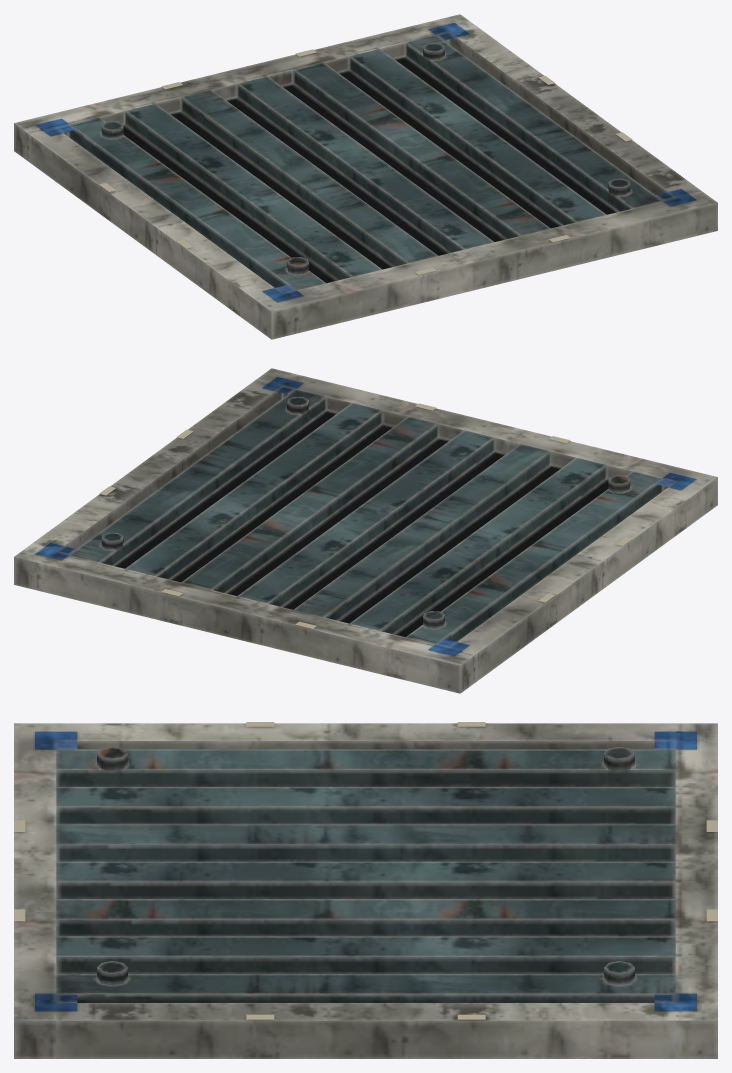
File: hull_platform_space.glb
3 views of the same model, one above another, from view 1: azimuth 30°, elevation 25°; view 2: azimuth 150°, elevation 25°; view 3: azimuth 270°, elevation 25° (orthographic). The views are drawn at different scales.
Parts seen in each view (by area): view 1: te_hull_platform_space; view 2: te_hull_platform_space; view 3: te_hull_platform_space.
Boxes of the visible parts, left/top/right/bottom form: te_hull_platform_space: left=14, top=14, right=717, bottom=339; te_hull_platform_space: left=14, top=368, right=717, bottom=693; te_hull_platform_space: left=14, top=722, right=717, bottom=1058.
Size of the model in its own units: 1 by 0.078 by 1.
1 material, 1 textured.
